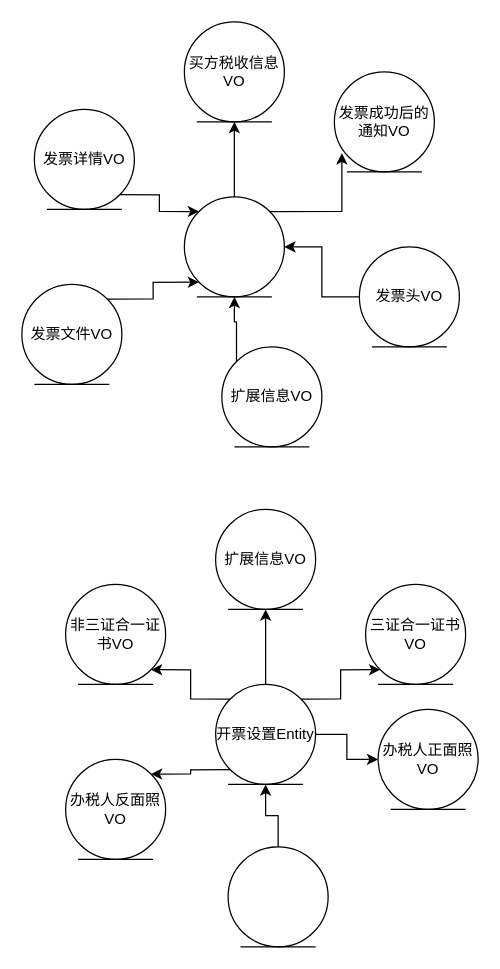
Some shapes in this 500 by 969 pixel diagram are drawn without their labels. Here are the shapes that lost their labels. From the top down, the centre of each, then its label:
At pixel 233 246: "发票记录Entity".
At pixel 277 896: "开票模版VO".
